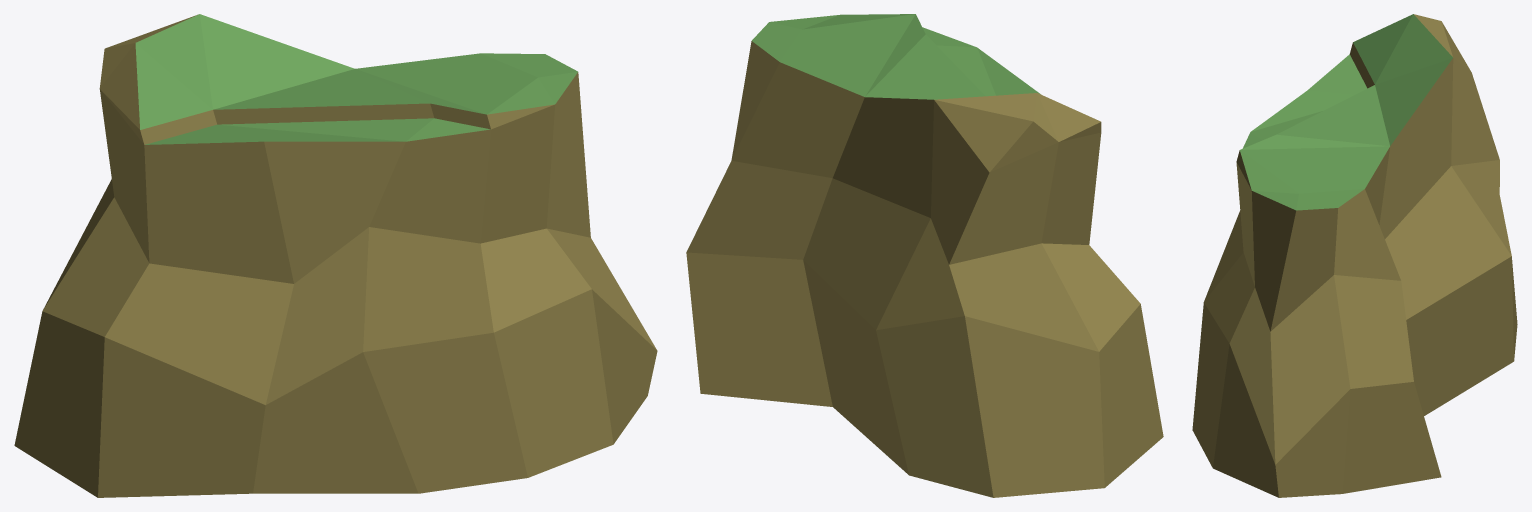
Rendered from low poly rock long 2.fbx.
The picture shows the model from 3 angles, left to right: view 1: azimuth 30°, elevation 25°; view 2: azimuth 150°, elevation 25°; view 3: azimuth 270°, elevation 25°; orthographic projection. The views are drawn at different scales.
Parts seen in each view (by area): view 1: Plane.015; view 2: Plane.015; view 3: Plane.015.
Boxes of the visible parts, x1,y1,x2,y2 form: Plane.015: [14, 14, 657, 497]; Plane.015: [686, 14, 1163, 497]; Plane.015: [1192, 14, 1517, 497].
Bounding box in the file's own units: 456 × 332 × 301.
